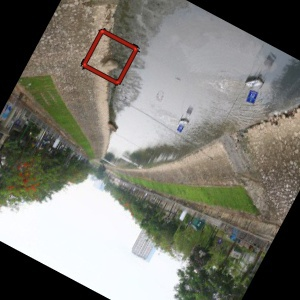square: (77, 27, 141, 87)
